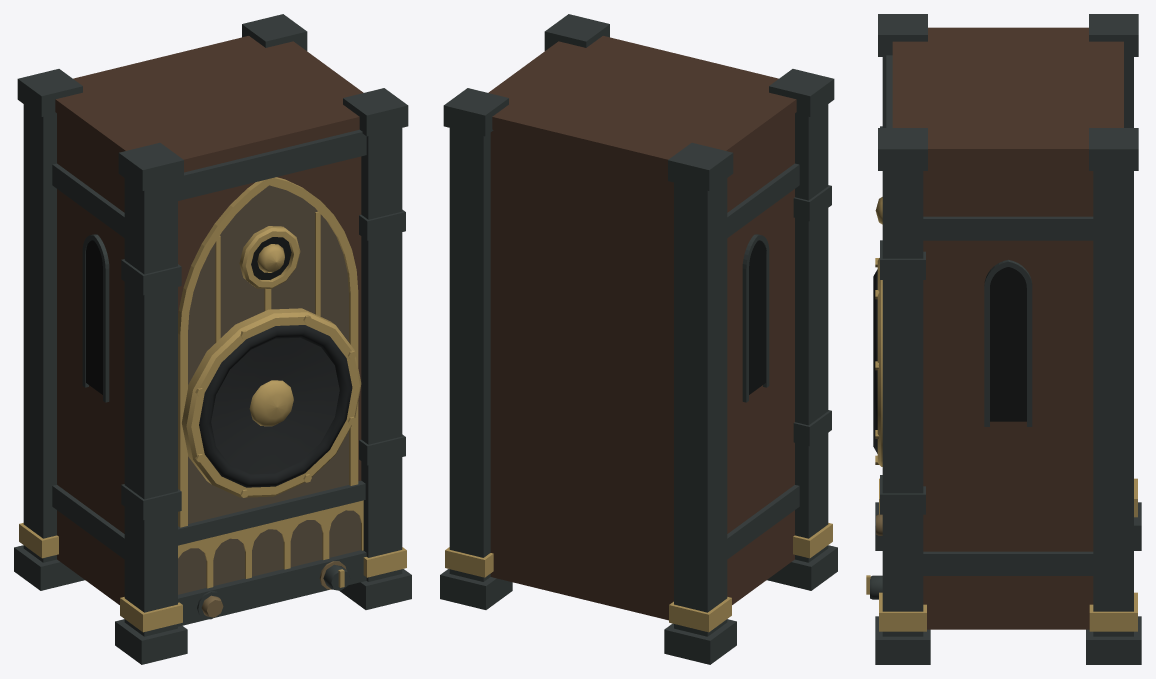
File: Aestrin-large.glb
The picture shows the model from 3 angles, left to right: view 1: azimuth 30°, elevation 25°; view 2: azimuth 150°, elevation 25°; view 3: azimuth 270°, elevation 25°; orthographic projection. The views are drawn at different scales.
Parts seen in each view (by area): view 1: Oak cabinet, Top board, Corner post front left, Arch speaker cloth, Corner post front right, Corner post back right, Woofer — cone, Woofer — bezel ring, Brass arch frame, Arcade cloth, Woofer — rubber surround, Top iron rail (+27 smaller); view 2: Oak cabinet, Top board, Corner post back right, Corner post back left, Corner post front left, Lancet window left, Post cap back right, Post cap back left, Iron foot 3, Post cap front left, Iron foot 4, Side strap left upper (+9 smaller); view 3: Oak cabinet, Top board, Corner post back left, Corner post front right, Lancet window right, Side strap right upper, Side strap right lower, Lancet frame right, Post cap front right, Post cap back left, Iron foot 2, Iron foot 4 (+10 smaller).
Boxes of the visible parts, x1,y1,x2,y2 form: Oak cabinet: [57, 113, 361, 604]; Top board: [55, 36, 363, 172]; Corner post front left: [124, 178, 177, 636]; Arch speaker cloth: [188, 185, 348, 523]; Corner post front right: [361, 128, 402, 581]; Corner post back right: [23, 104, 56, 562]; Woofer — cone: [211, 337, 339, 474]; Woofer — bezel ring: [182, 308, 361, 497]; Brass arch frame: [178, 177, 358, 527]; Arcade cloth: [178, 510, 360, 594]; Woofer — rubber surround: [199, 325, 352, 487]; Top iron rail: [178, 129, 366, 200]; Oak cabinet: [490, 113, 794, 620]; Top board: [488, 36, 796, 172]; Corner post back right: [674, 178, 727, 636]; Corner post back left: [449, 128, 490, 581]; Corner post front left: [795, 104, 828, 562]; Lancet window left: [749, 240, 765, 394]; Post cap back right: [668, 142, 733, 190]; Post cap back left: [443, 88, 508, 136]; Iron foot 3: [664, 619, 736, 664]; Post cap front left: [769, 69, 834, 116]; Iron foot 4: [440, 569, 512, 609]; Side strap left upper: [727, 163, 799, 237]; Oak cabinet: [923, 162, 1093, 629]; Top board: [892, 27, 1123, 162]; Corner post back left: [1093, 171, 1133, 636]; Corner post front right: [882, 171, 923, 636]; Lancet window right: [990, 267, 1026, 421]; Side strap right upper: [923, 216, 1093, 240]; Side strap right lower: [923, 551, 1093, 575]; Lancet frame right: [984, 259, 1032, 426]; Post cap front right: [878, 128, 927, 170]; Post cap back left: [1089, 128, 1138, 170]; Iron foot 2: [875, 616, 930, 664]; Iron foot 4: [1086, 616, 1141, 664].
Size of the model in its own units: 0.352 by 0.614 by 0.2975.
